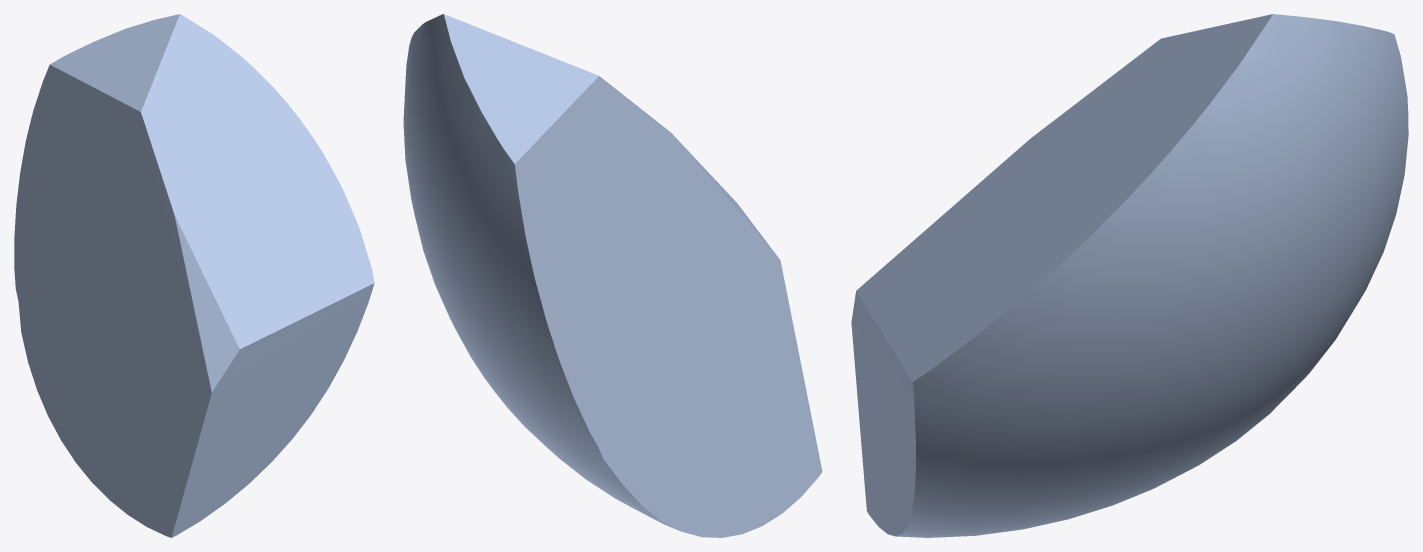
Rendered from Ball1_6.fbx.
3 renders of one model, left to right at view 1: azimuth 30°, elevation 25°; view 2: azimuth 150°, elevation 25°; view 3: azimuth 270°, elevation 25°, orthographic. The views are drawn at different scales.
Parts seen in each view (by area): view 1: Cube_cell.073; view 2: Cube_cell.073; view 3: Cube_cell.073.
Boxes of the visible parts, x1=… form: Cube_cell.073: x1=14, y1=14, x2=374, y2=537; Cube_cell.073: x1=403, y1=14, x2=822, y2=537; Cube_cell.073: x1=851, y1=14, x2=1408, y2=537.
Size of the model in its own units: 70.55 by 112 by 93.48.
